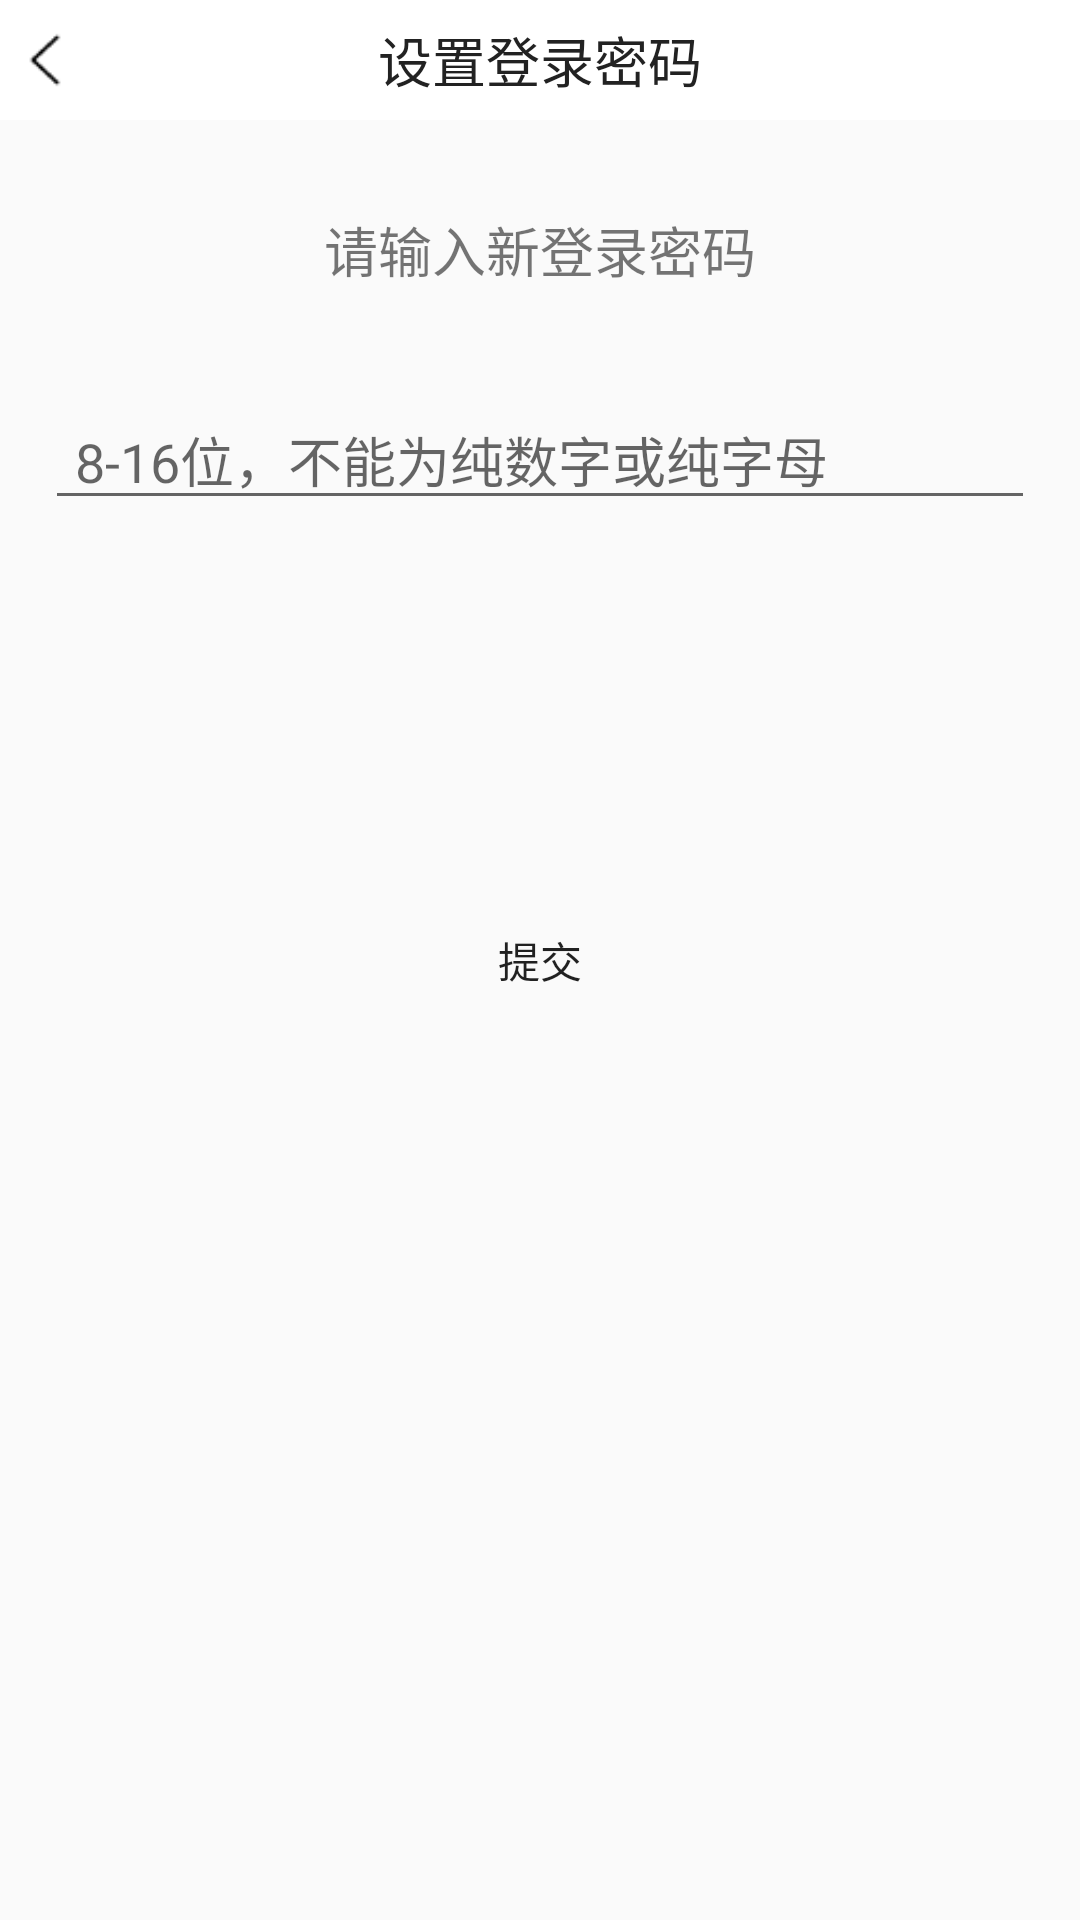

Icon click points for this 1080px x 1920px phone screenshot, format (x,y):
to left: (45,60)
